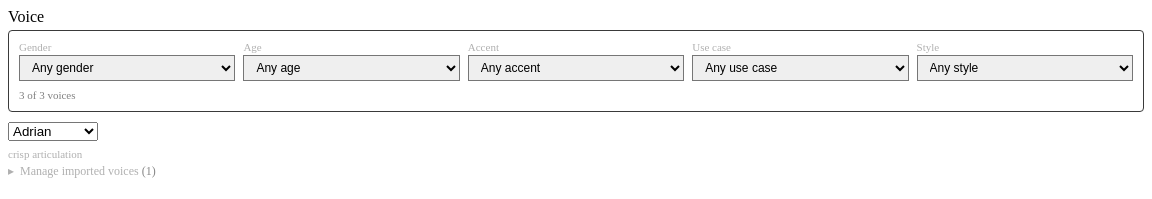
VoiceLibrarySection facet filter › reports how many voices the filter left
Select "Deep" in the dropdown labelled "Style": (1025, 68) 917,55 -> 1133,81
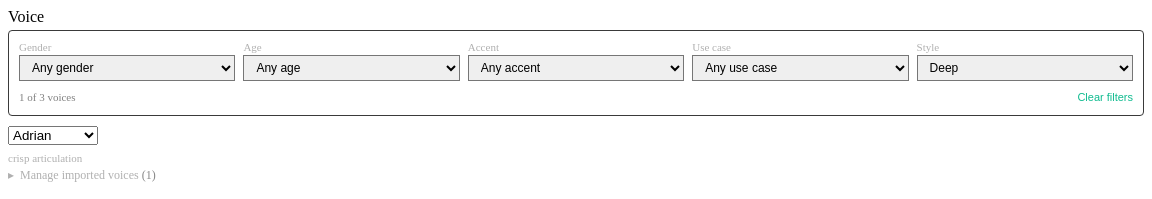
expect the text "1 of 3 voices" is shown: met, box 19,91 -> 76,103
